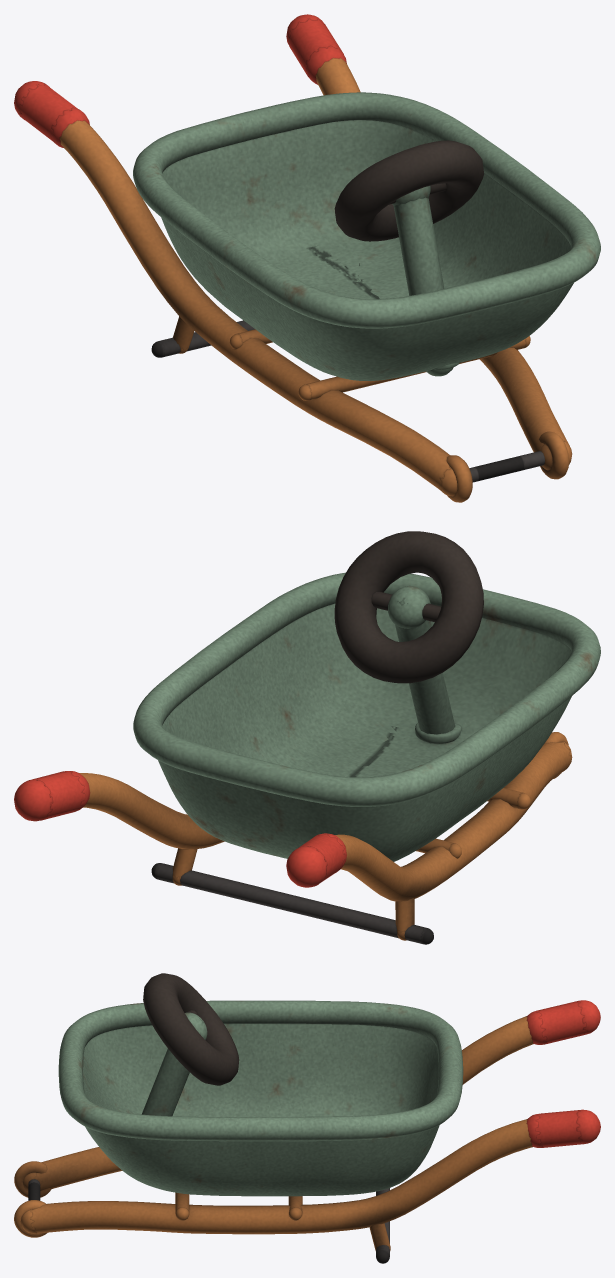
The picture shows the model from 3 angles, top to bottom: view 1: azimuth 30°, elevation 25°; view 2: azimuth 150°, elevation 25°; view 3: azimuth 270°, elevation 25°; orthographic projection. The views are drawn at different scales.
Parts seen in each view (by area): view 1: body, steering_wheel; view 2: body, steering_wheel; view 3: body, steering_wheel.
Part boxes in pixels (x1,y1,x2,y2): body: (14,14,600,502); steering_wheel: (334,140,483,241); body: (14,572,600,944); steering_wheel: (334,531,483,683); body: (14,1000,600,1263); steering_wheel: (143,973,239,1085).
Bounding box in the file's own units: 0.6887 × 0.6 × 1.35.
Materials: 1 (1 with a texture image).
